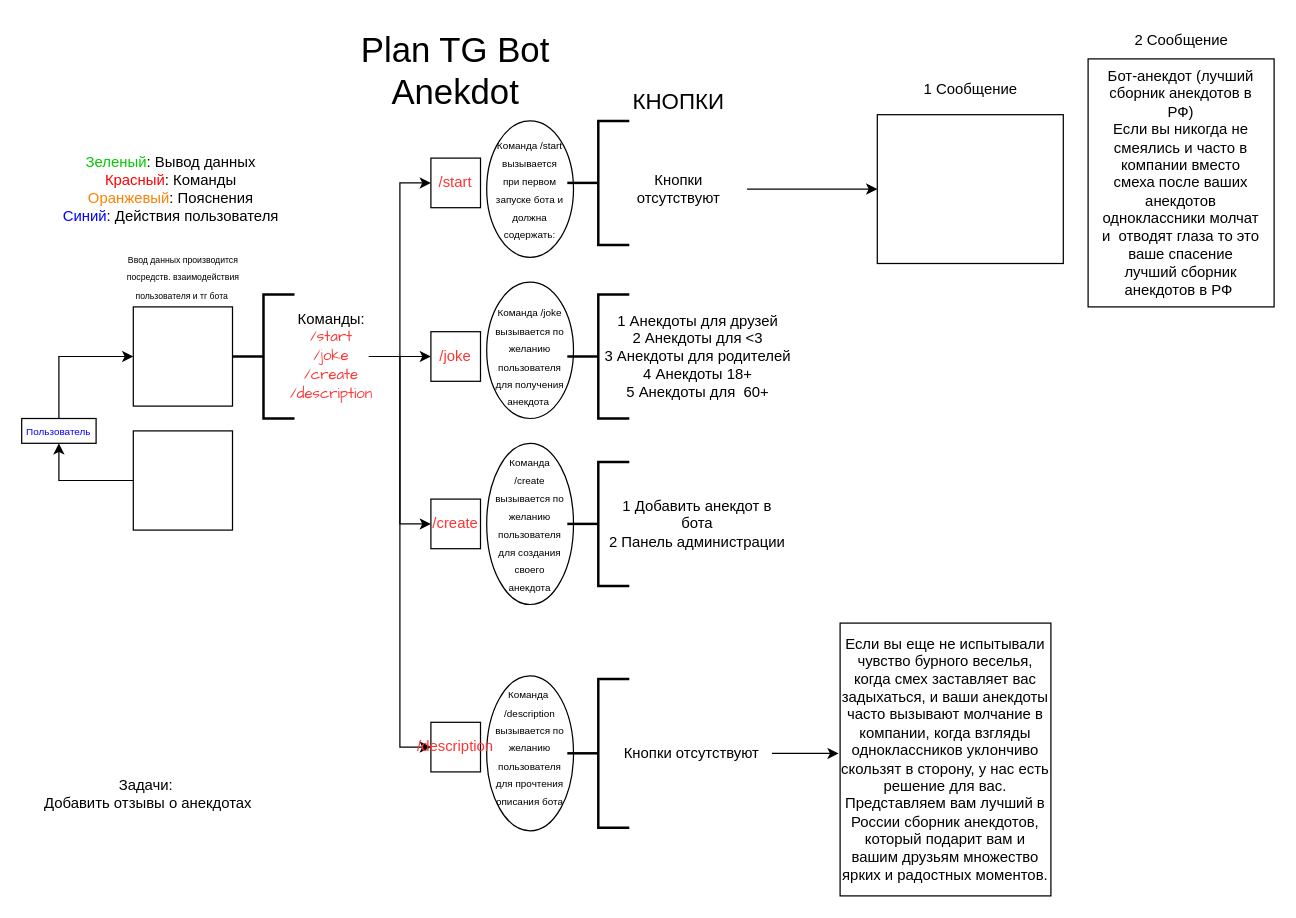
The diagram is 1296 pixels wide and 918 high, and some of its shapes have lost their labels. Here are the shapes that lost their labels. From the top down, the box of each, then its label:
(876, 113, 1063, 264): 1 Приветствие 2 Приветственное фото
(132, 306, 232, 406): Ввод данных
(132, 430, 232, 530): Вывод данных
